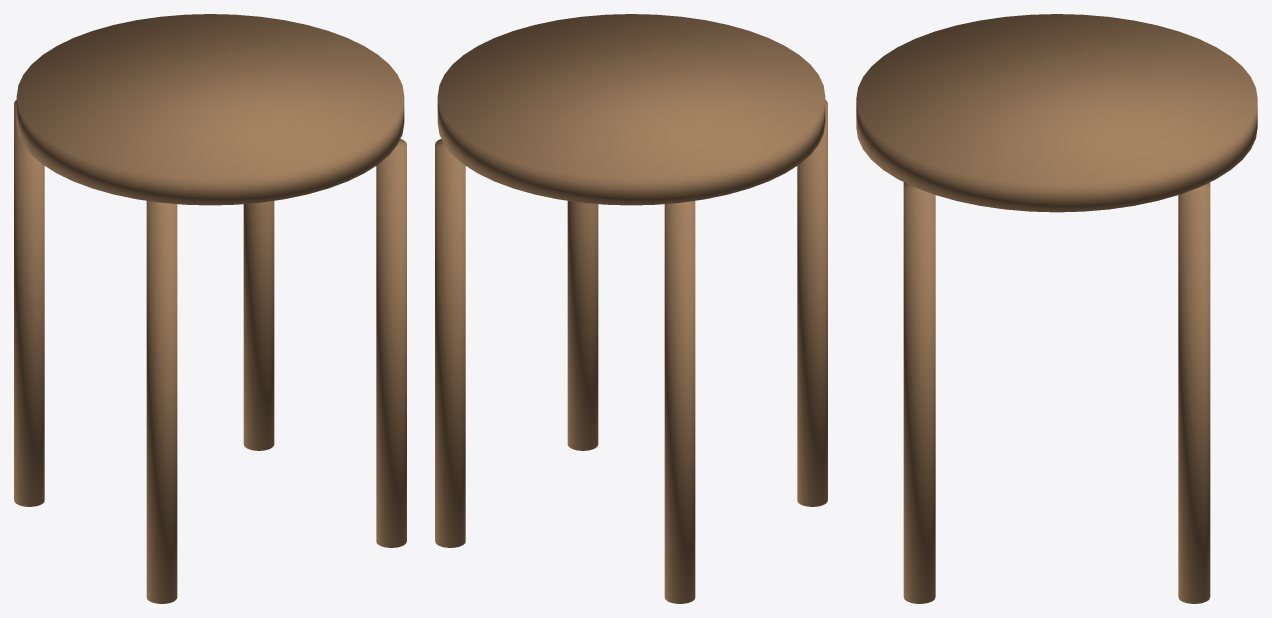
The model's file is stool-after.glb.
The picture shows the model from 3 angles, left to right: view 1: azimuth 30°, elevation 25°; view 2: azimuth 150°, elevation 25°; view 3: azimuth 270°, elevation 25°; orthographic projection. The views are drawn at different scales.
Parts seen in each view (by area): view 1: seat, leg3, leg2, leg1, leg0; view 2: seat, leg1, leg0, leg3, leg2; view 3: seat, leg0, leg2.
Boxes of the visible parts, x1,y1,x2,y2 form: seat: [16, 14, 404, 205]; leg3: [146, 201, 177, 603]; leg2: [376, 139, 406, 547]; leg1: [14, 100, 44, 506]; leg0: [243, 201, 274, 450]; seat: [437, 14, 825, 205]; leg1: [664, 201, 695, 603]; leg0: [435, 139, 465, 547]; leg3: [797, 100, 827, 506]; leg2: [567, 201, 598, 450]; seat: [856, 14, 1257, 212]; leg0: [1178, 183, 1210, 603]; leg2: [903, 183, 935, 603].
Bounding box in the file's own units: 0.38 × 0.46 × 0.38.
